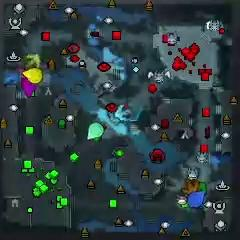p1: (188, 190, 205, 209)
p2: (87, 122, 103, 141)
p3: (20, 74, 37, 96)
p4: (22, 67, 43, 84)
x2: (25, 52, 40, 69)
x3: (115, 103, 132, 122)
x4: (195, 181, 208, 192)
x5: (183, 177, 200, 194)
